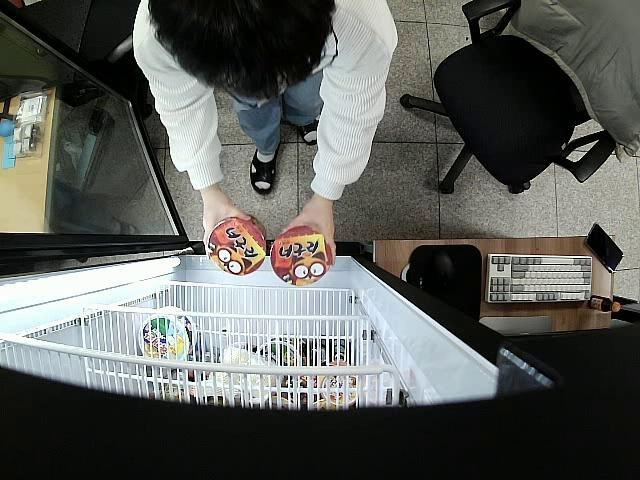05_nuguri_L: (270, 224, 335, 288), (206, 212, 266, 274)
